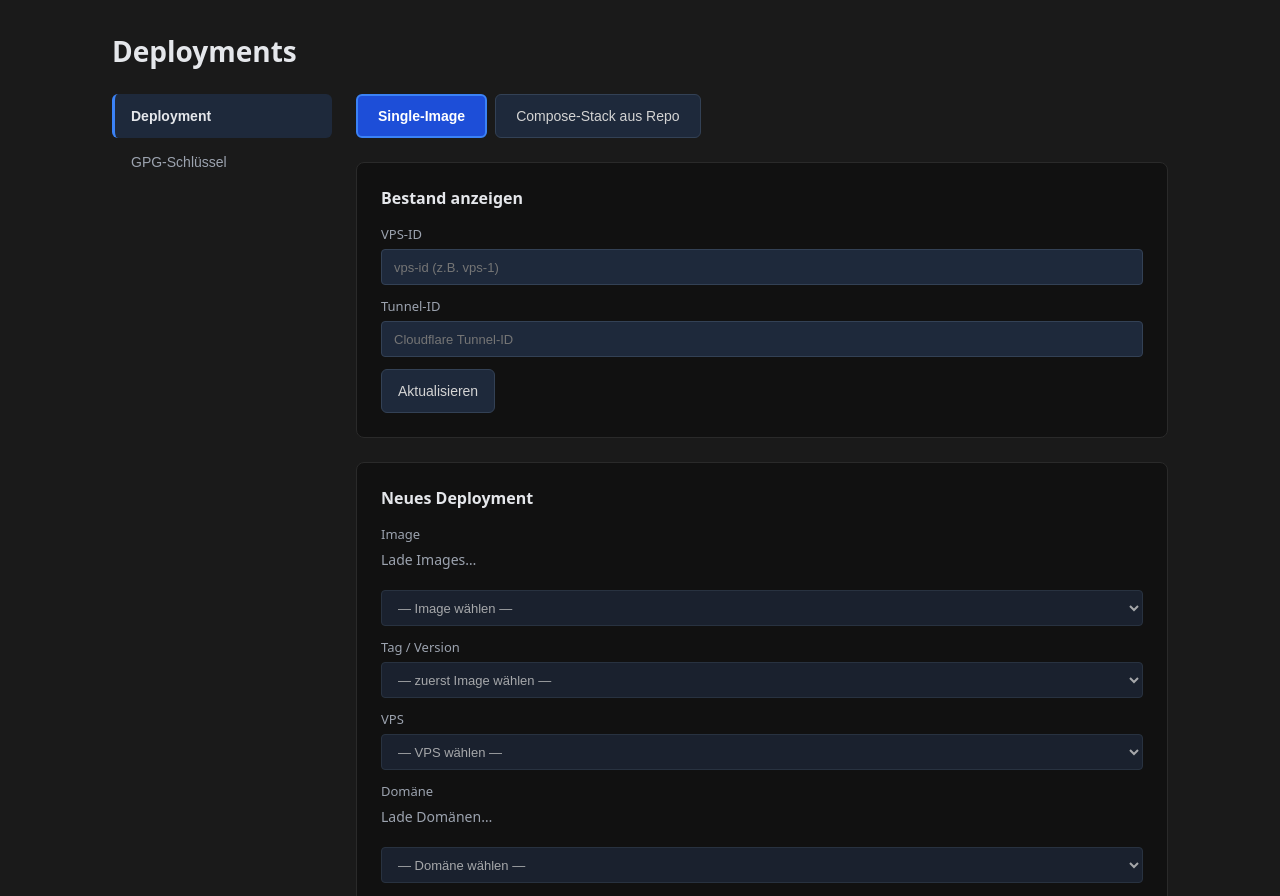
Scenario: DeploymentsView — GPG-Schlüssel-Ansicht: App-Dropdown + Passphrase anlegen (F-087/S-375) › AC5: App-Wechsel löst die Existenz-Abfrage für die NEUE App neu aus
Step 1. Click the button with test id "subnav-item-gpg" → (222, 162), box [112,140,332,184]
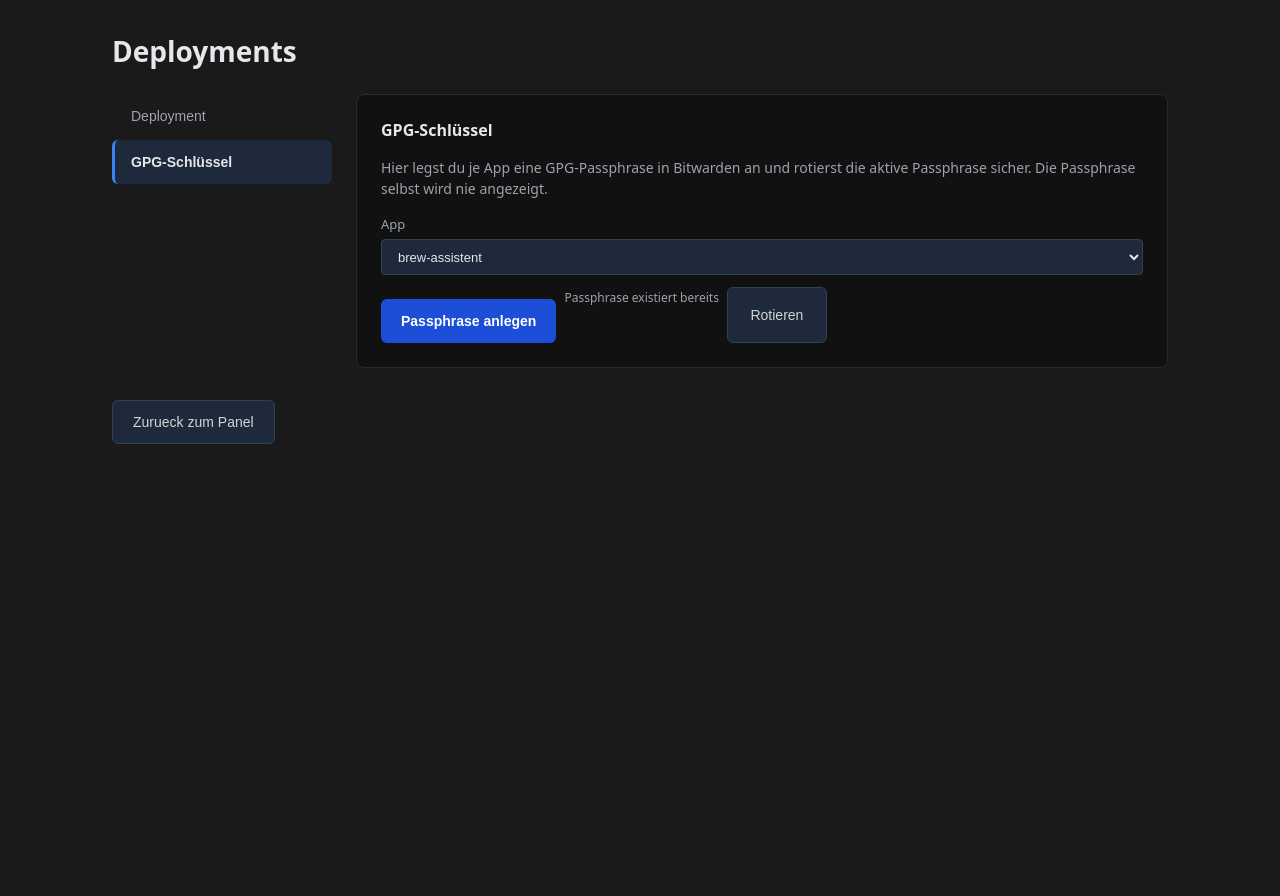
Check: the element named "GPG-Schlüssel" shows "Passphrase existiert bereits", box [564,289,719,306]
Step 2. Select "zweite-app" in the dropdown with id "gpg-app-select" → (762, 257), box [381,239,1143,275]
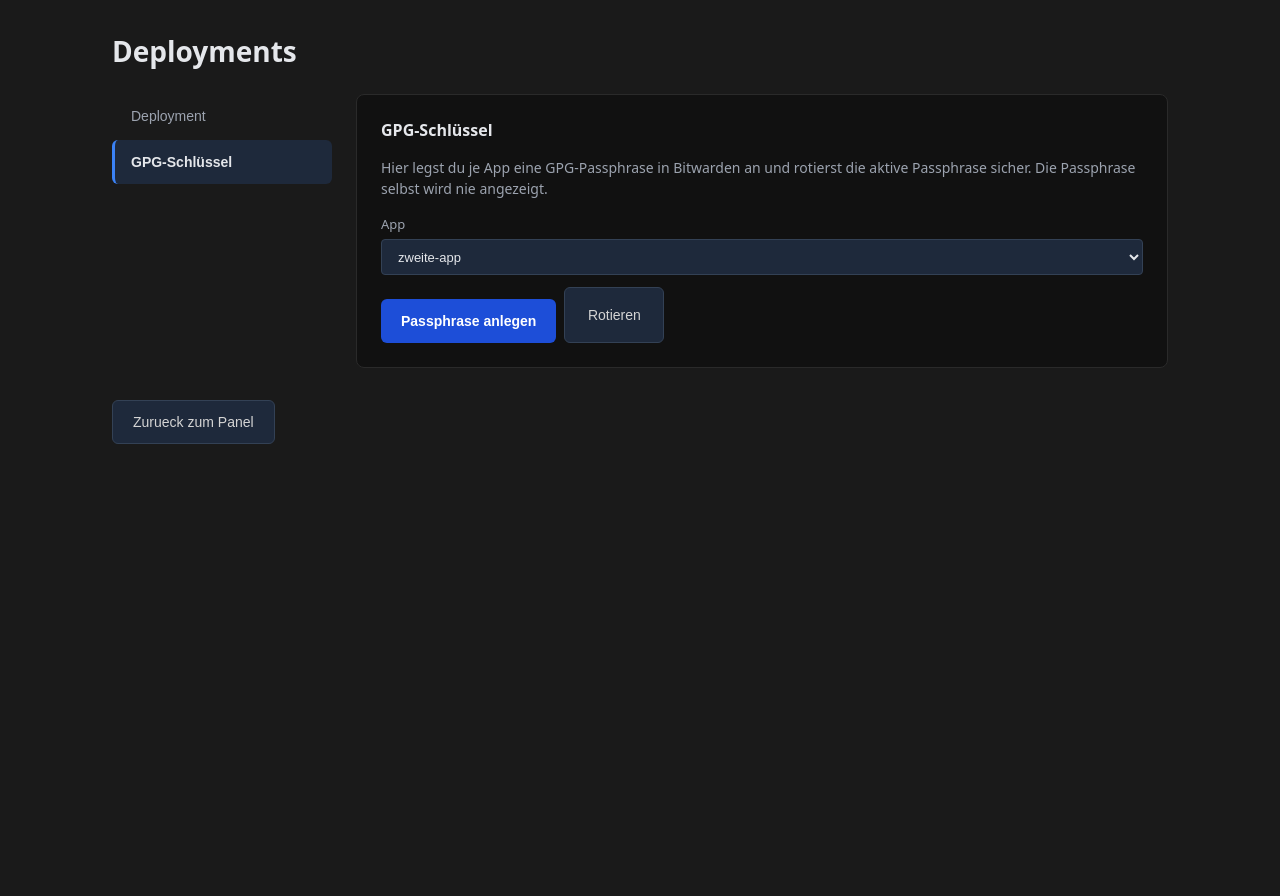
Check: the button "Passphrase anlegen" is enabled, box [381,299,556,343]
Check: the text named "GPG-Schlüssel" no longer shows "existiert bereits"
